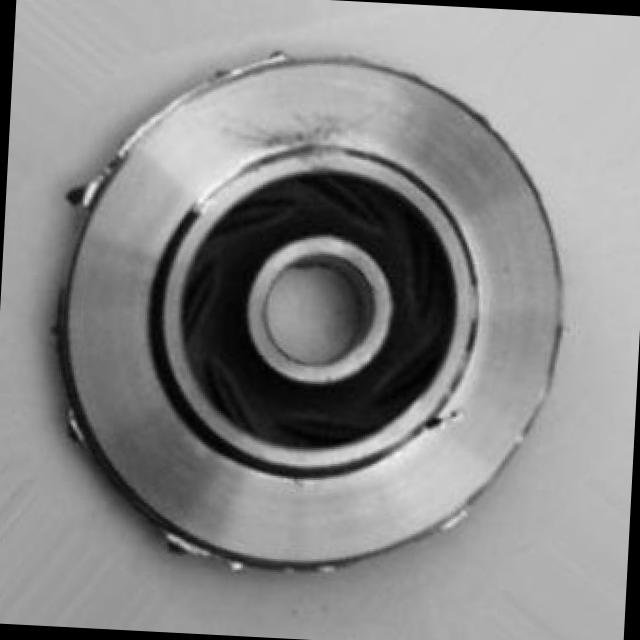Defect: (65, 165, 108, 212)
